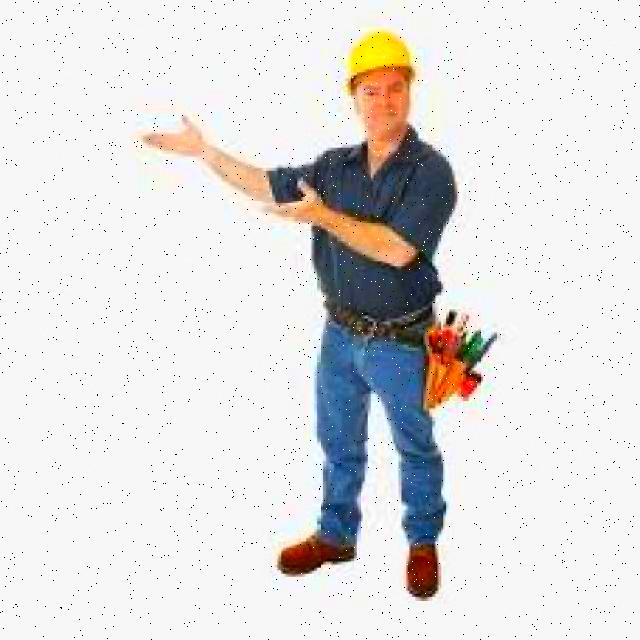Boots: (278, 528, 356, 580), (398, 540, 448, 605)
Helmet: (346, 28, 416, 86)
